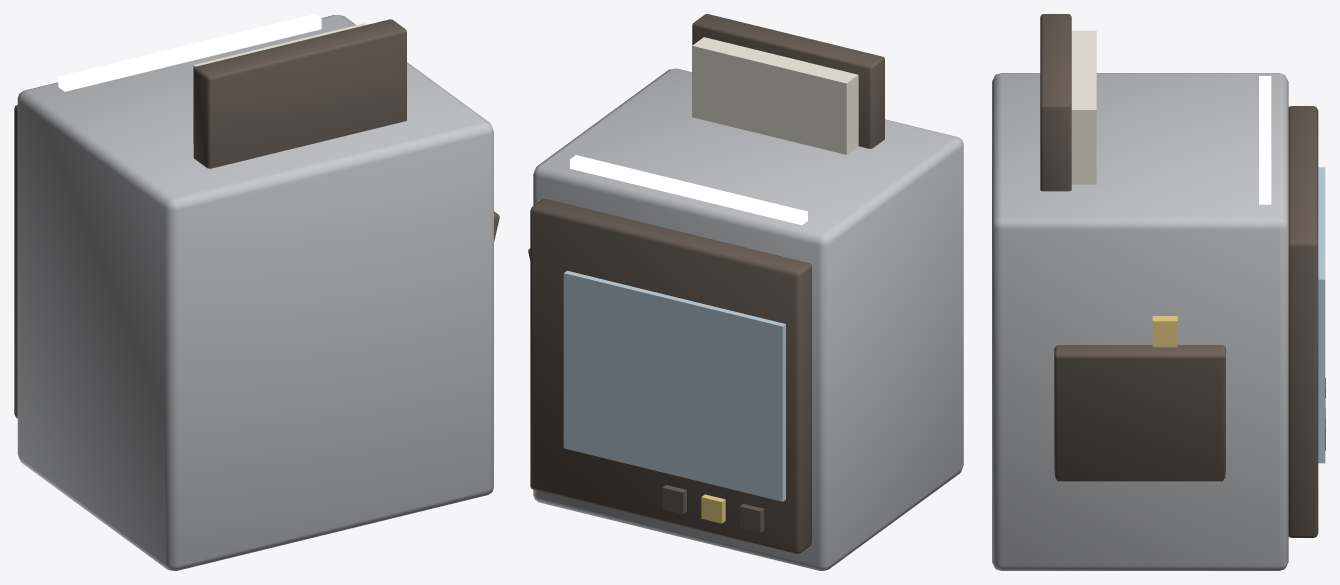
File: copier.glb
3 views of the same model, side by side, from view 1: azimuth 30°, elevation 25°; view 2: azimuth 150°, elevation 25°; view 3: azimuth 270°, elevation 25° (orthographic). The views are drawn at different scales.
Visible parts, largest first — view 1: CopierBody, PaperTray, CopierStrip, CopierTop; view 2: CopierBody, CopierTop, CopierGlass, PaperStack, PaperTray, CopierStrip, CopierBtn1, CopierBtn0, CopierBtn2; view 3: CopierBody, JamDoor, CopierTop, PaperTray, PaperStack, CopierGlass, CopierStrip, JamLatch.
Part boxes in pixels (x1,y1,x2,y2): CopierBody: [17, 14, 493, 570]; PaperTray: [193, 19, 406, 168]; CopierStrip: [58, 14, 321, 91]; CopierTop: [14, 105, 17, 418]; CopierBody: [533, 68, 963, 570]; CopierTop: [530, 199, 811, 553]; CopierGlass: [563, 270, 785, 501]; PaperStack: [692, 37, 858, 154]; PaperTray: [692, 14, 884, 148]; CopierStrip: [570, 155, 807, 225]; CopierBtn1: [701, 494, 725, 523]; CopierBtn0: [740, 504, 764, 532]; CopierBtn2: [662, 485, 686, 513]; CopierBody: [992, 73, 1288, 570]; JamDoor: [1054, 345, 1225, 481]; CopierTop: [1288, 106, 1318, 537]; PaperTray: [1040, 14, 1071, 191]; PaperStack: [1071, 30, 1096, 184]; CopierGlass: [1318, 167, 1325, 463]; CopierStrip: [1259, 76, 1271, 204]; JamLatch: [1152, 316, 1177, 347].
Size of the model in its own units: 1.28 by 1.56 by 1.07.
